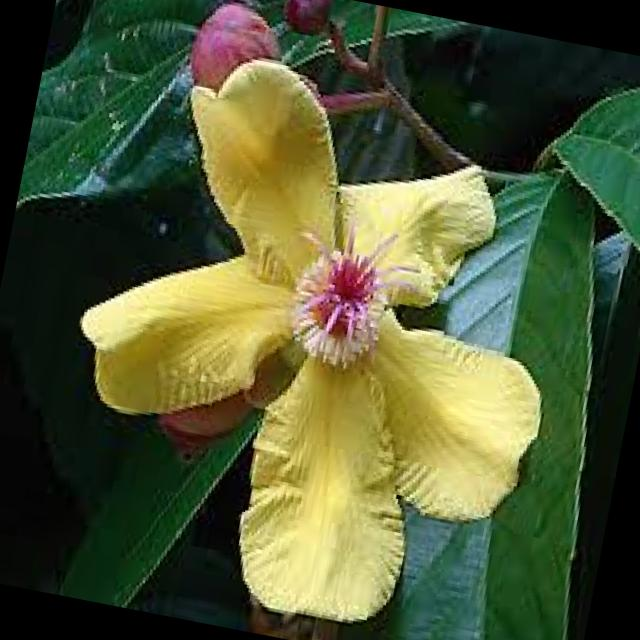Simpoh-Lak: (38, 0, 609, 640), (178, 0, 297, 111), (279, 0, 339, 40)
